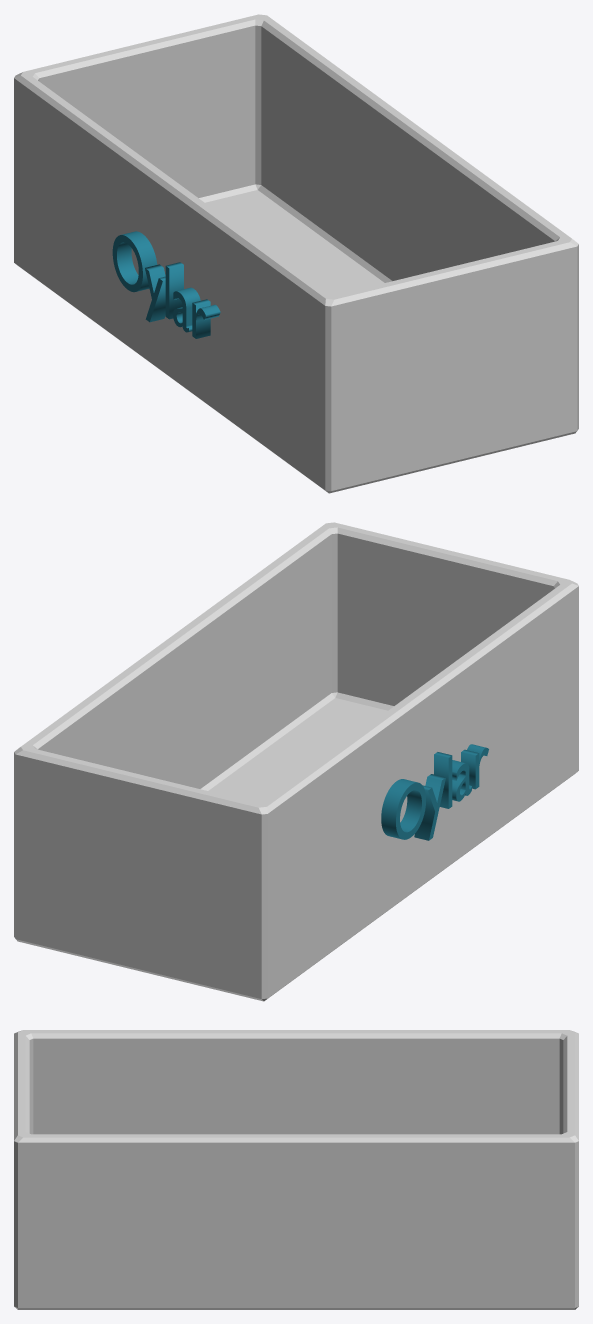
The model's file is oykutu.fbx.
3 views of the same model, one above another, from view 1: azimuth 30°, elevation 25°; view 2: azimuth 150°, elevation 25°; view 3: azimuth 270°, elevation 25° (orthographic). The views are drawn at different scales.
Visible parts, largest first — view 1: oykutusu, oylartext; view 2: oykutusu, oylartext; view 3: oykutusu.
Part boxes in pixels (x1,y1,x2,y2): oykutusu: [14, 14, 578, 493]; oylartext: [112, 231, 220, 338]; oykutusu: [14, 522, 578, 1001]; oylartext: [381, 744, 488, 840]; oykutusu: [14, 1030, 578, 1309].
Size of the model in its own units: 36.27 by 24.86 by 73.84.
